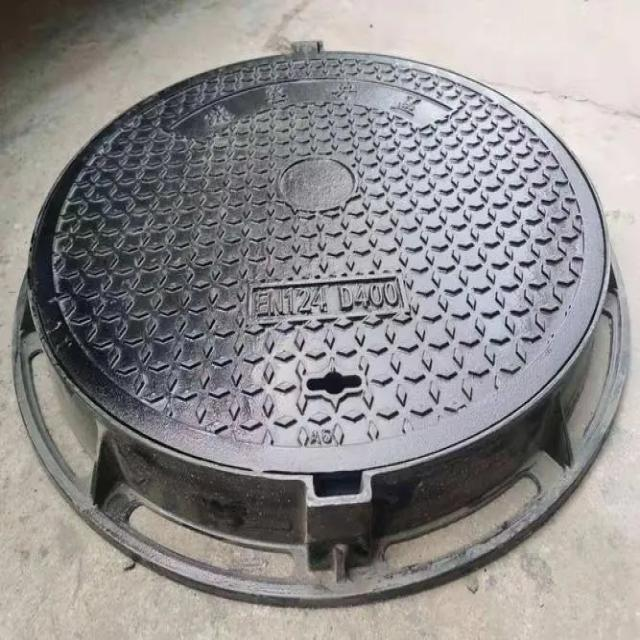manhole: (14, 44, 629, 605)
